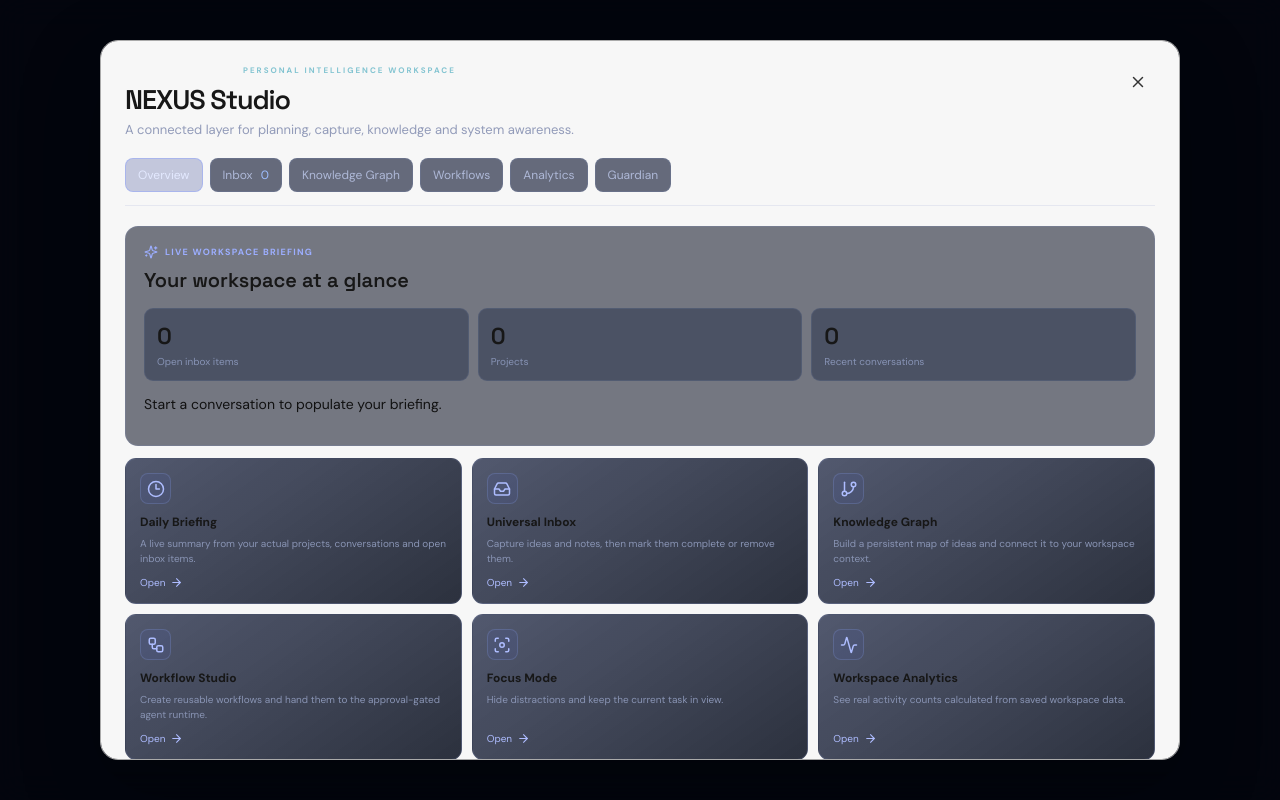
Test: NEXUS Studio › ignores malformed persisted workflow progress
Click the button "Workflows" at (462, 175), box [420,158,503,192]
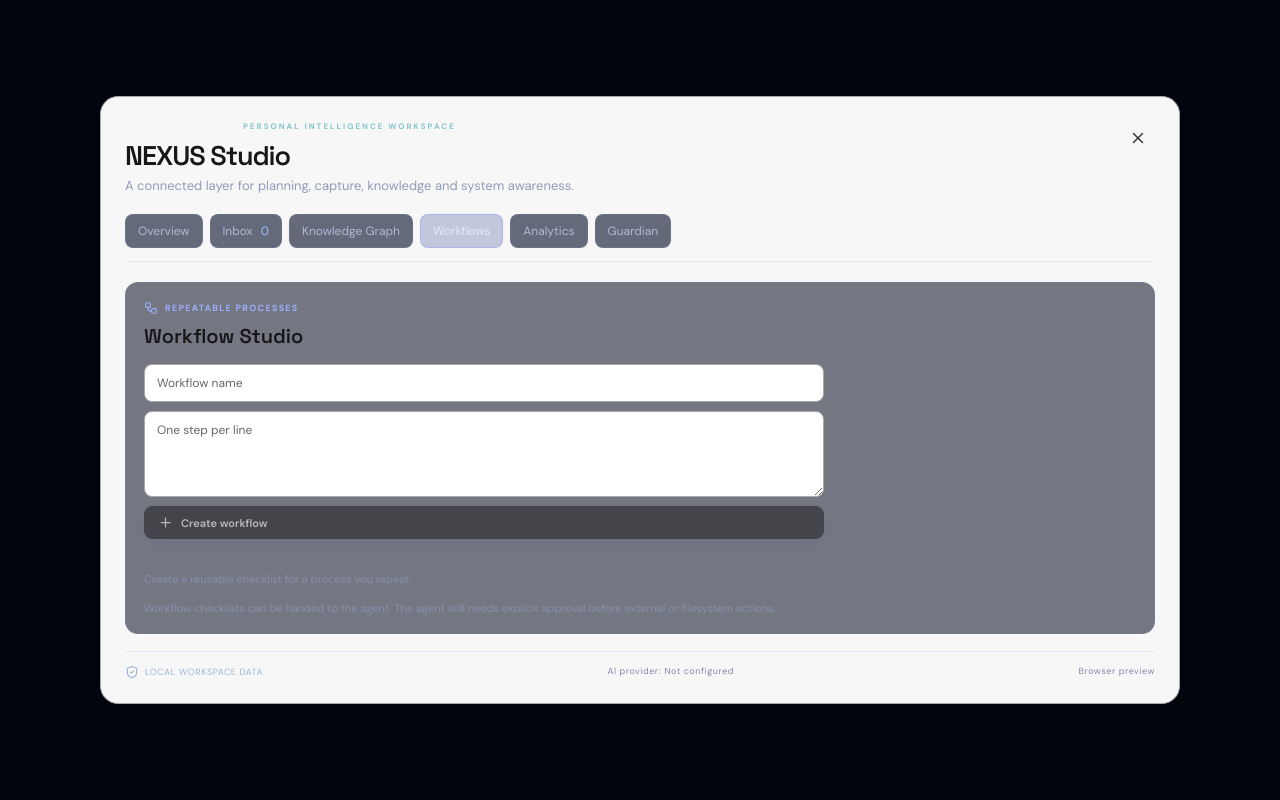
Result: the text "Create a reusable checklist for a process you repeat." is shown at [144,572,412,586]
